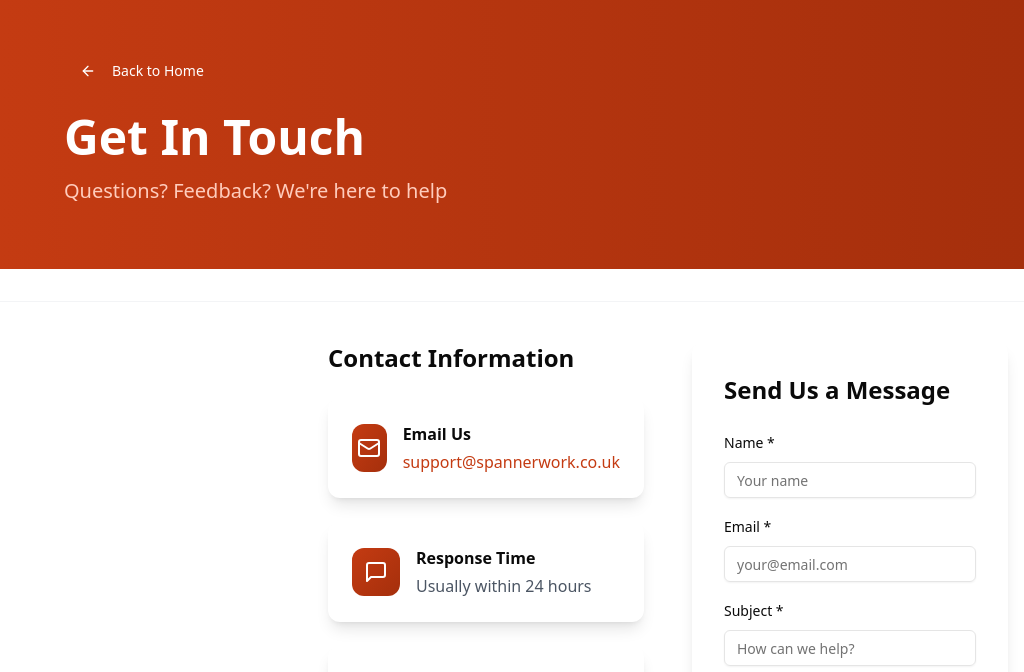
Contact Page › Form submission › submits form and shows success message
This screenshot has width=1024, height=672.
In the field labelled "Name *": (850, 480) [724, 462, 976, 498], type "John Doe"
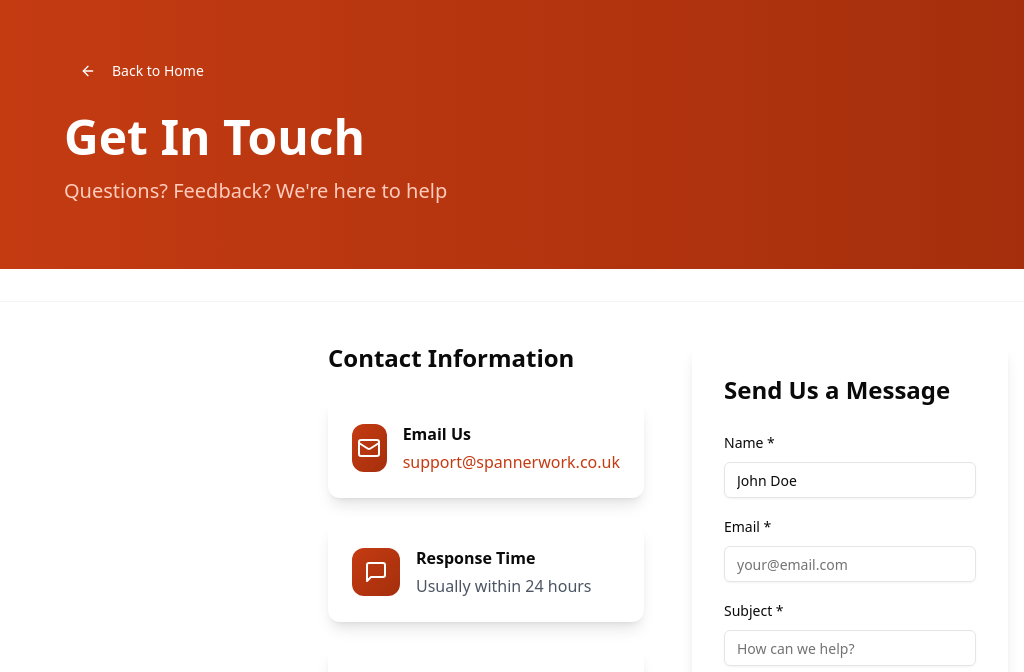
In the field labelled "Email *": (850, 564) [724, 546, 976, 582], type "john@test.com"
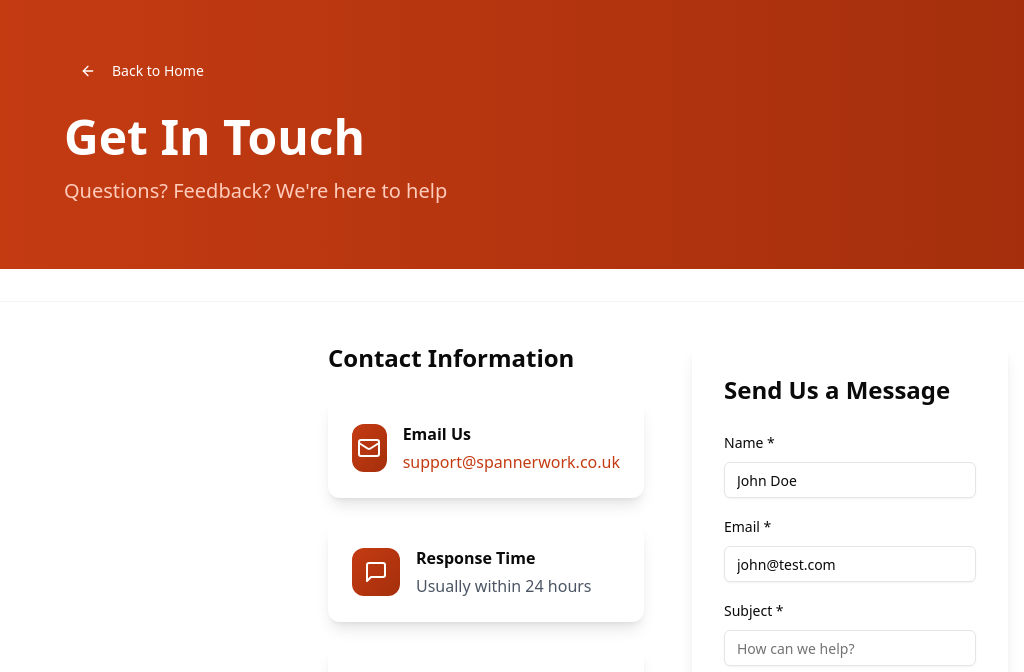
In the field labelled "Subject *": (850, 648) [724, 630, 976, 666], type "Test Subject"
(page scrolled)
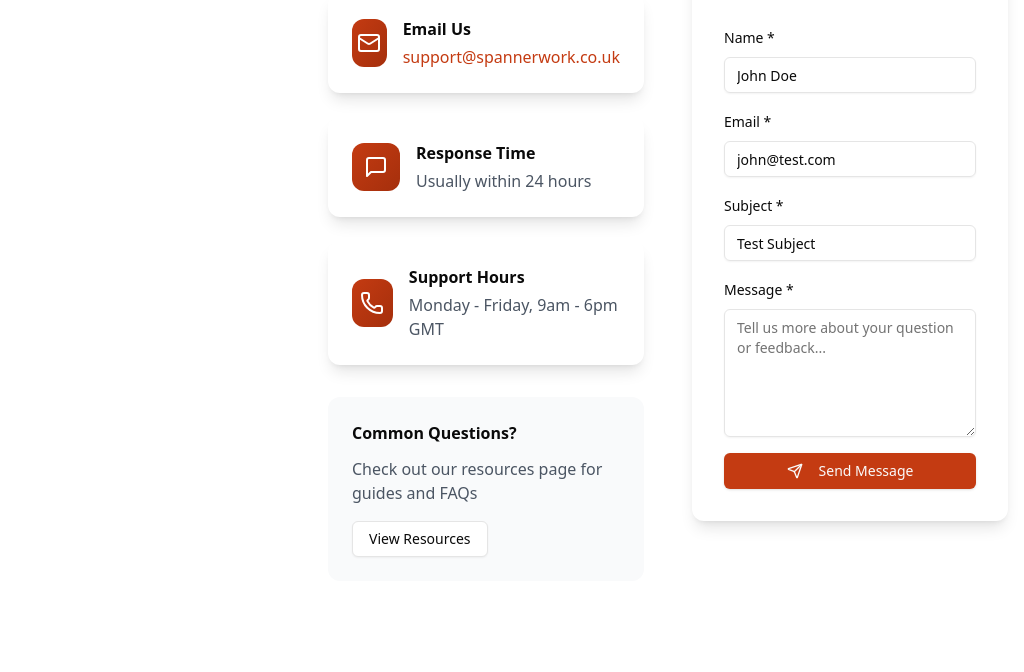
In the text box labelled "Message *": (850, 373) [724, 309, 976, 437], type "Test message"
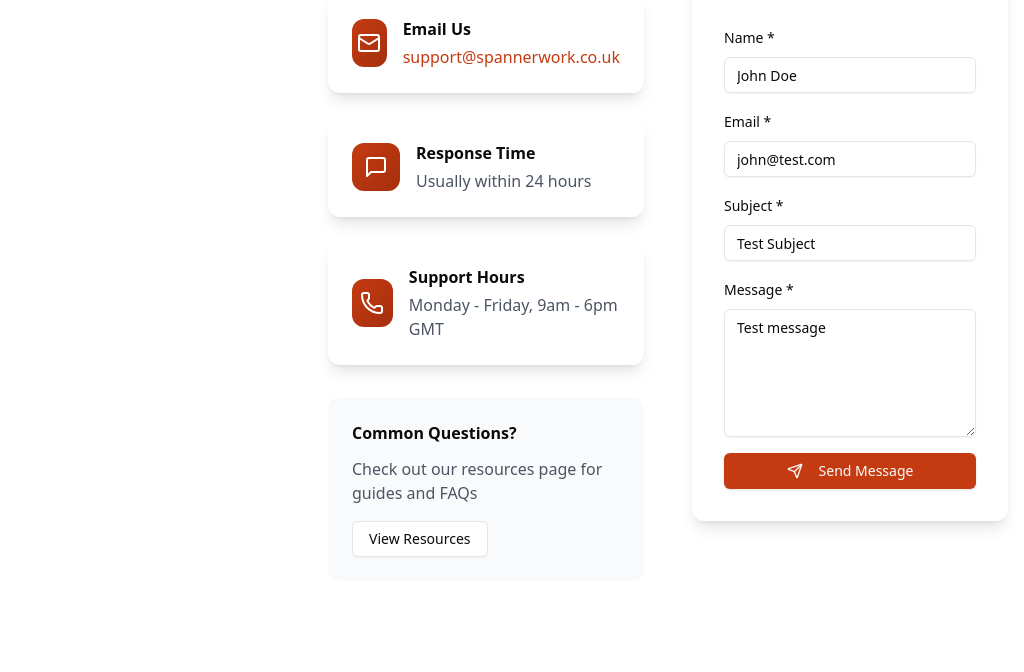
Submit the form "Name * Email * Subject * Message * Send Message", box [724, 25, 976, 489]
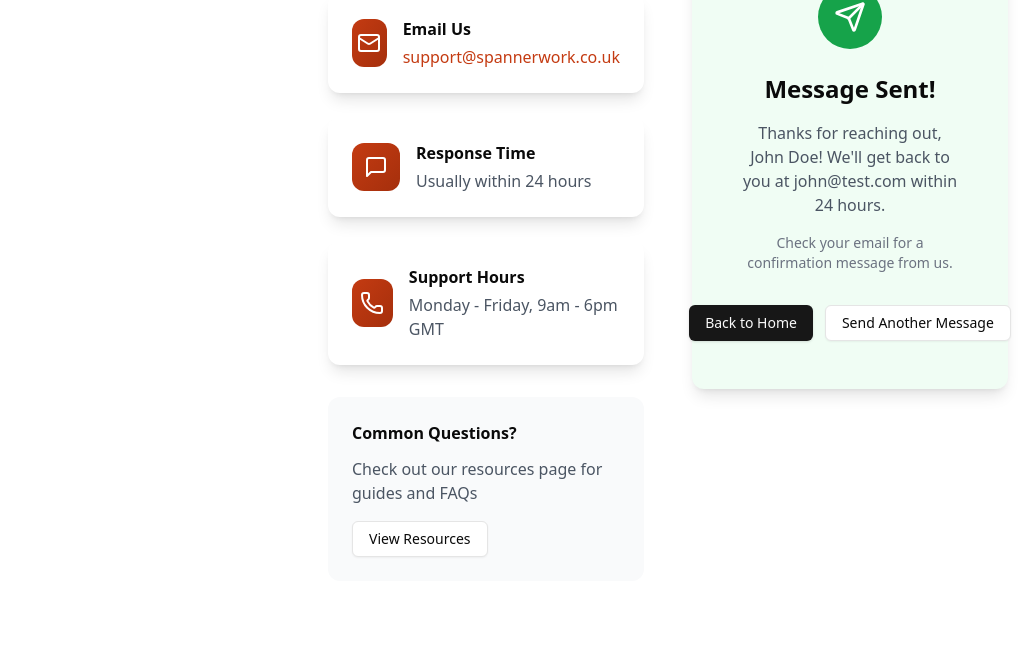
Now the heading "Message Sent!" is shown, box [764, 72, 936, 105]
Now the text "John Doe" is shown, box [750, 146, 818, 168]
Now the text "john@test.com" is shown, box [794, 170, 906, 192]
